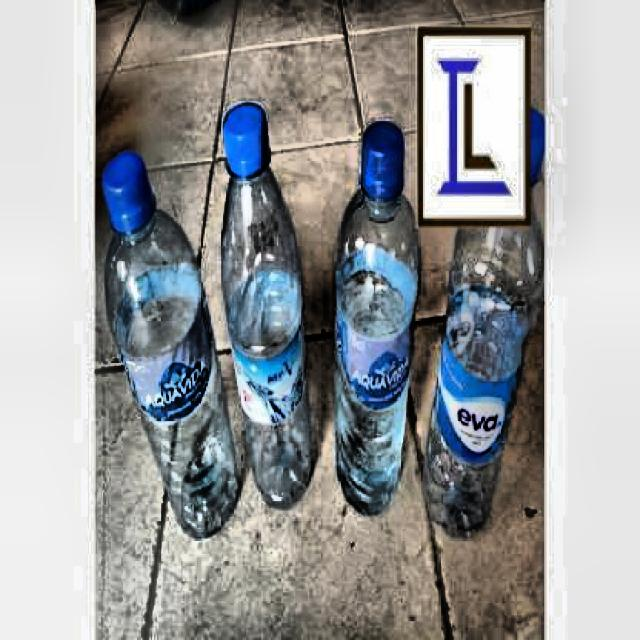Bottles: (183, 78, 329, 514), (91, 150, 247, 555), (414, 215, 547, 558), (312, 84, 409, 537)
